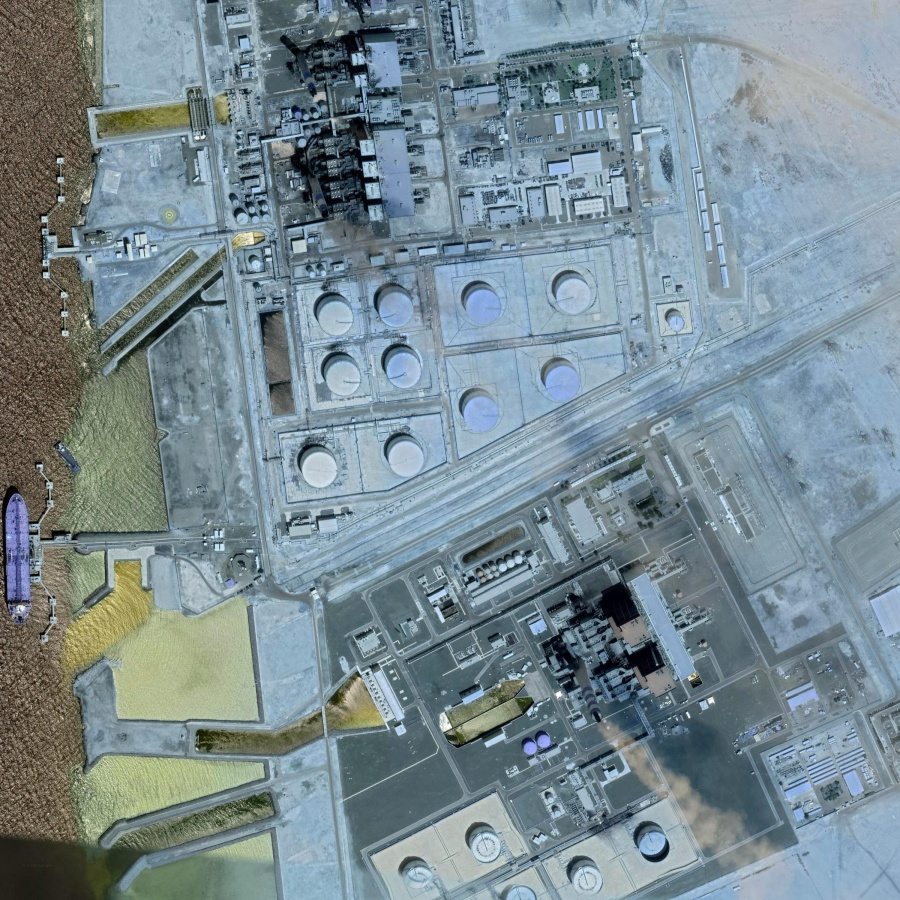PowerPlant: (247, 246, 627, 509)
